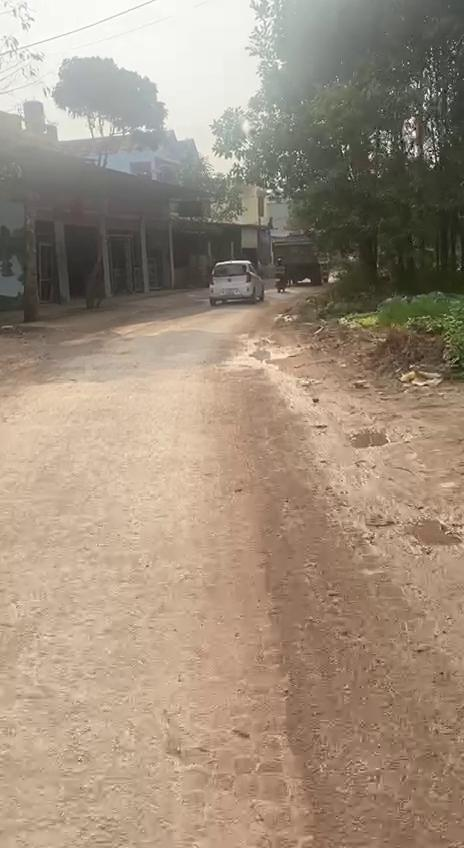pothole: (398, 511, 464, 558), (342, 423, 398, 454)
